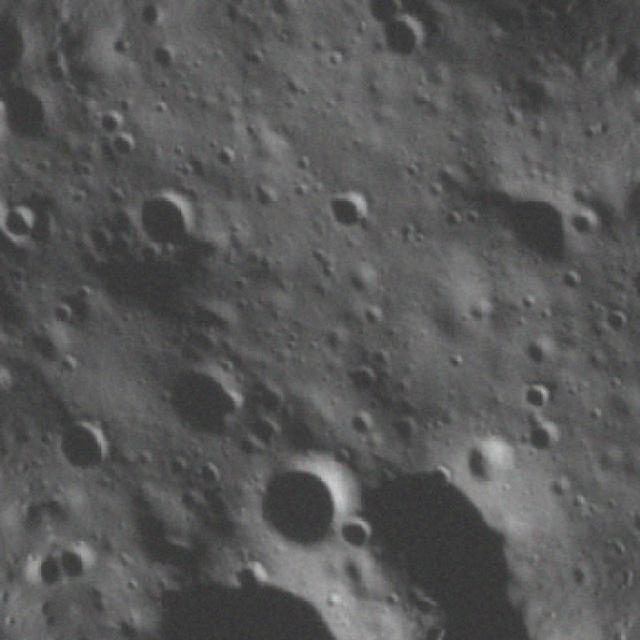crater: (232, 444, 359, 568), (484, 167, 601, 293), (151, 340, 267, 460), (124, 174, 218, 266), (0, 70, 77, 164), (314, 168, 395, 255), (47, 404, 122, 482), (459, 424, 527, 493), (513, 411, 581, 472), (373, 15, 436, 74), (52, 530, 108, 592), (323, 508, 383, 564), (507, 366, 565, 420), (333, 352, 390, 406), (0, 193, 52, 248), (0, 348, 31, 414), (104, 128, 148, 172), (354, 0, 414, 32), (85, 98, 126, 140), (621, 497, 640, 550), (624, 260, 640, 321), (0, 85, 8, 173), (320, 0, 366, 5)
